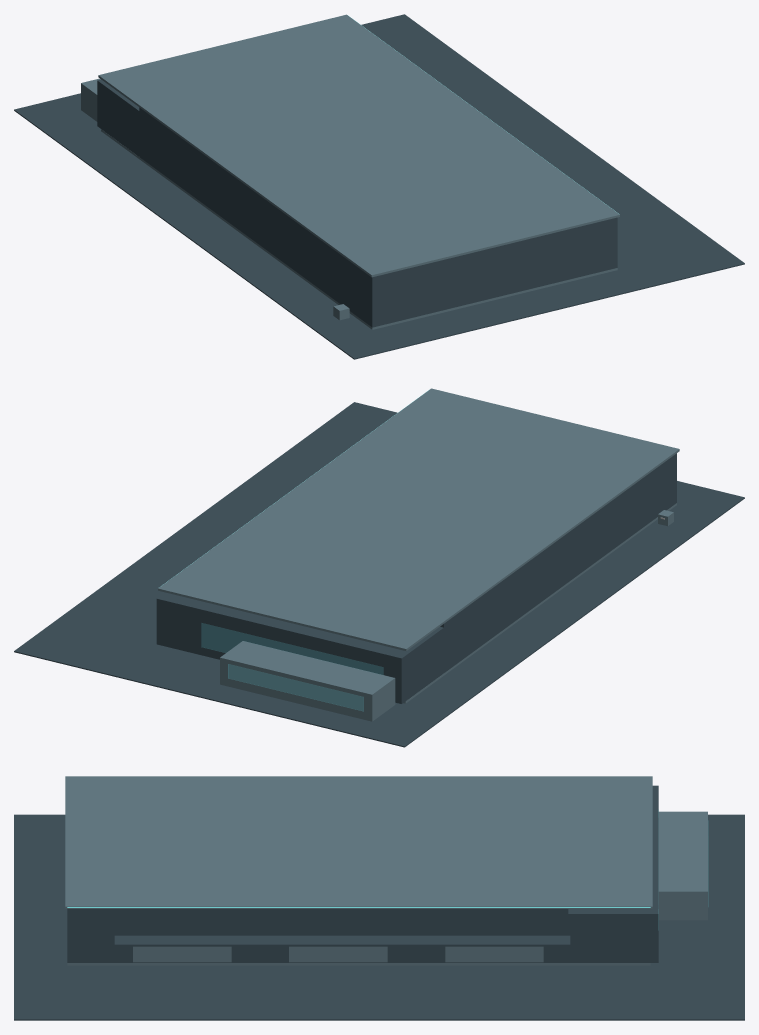
Rendered from warehouse_logistics_center.lod2.glb.
3 views of the same model, one above another, from view 1: azimuth 30°, elevation 25°; view 2: azimuth 150°, elevation 25°; view 3: azimuth 270°, elevation 25° (orthographic). The views are drawn at different scales.
Visible parts, largest first — view 1: warehouse_logistics_center_graphite_light.002, warehouse_logistics_center_graphite.002; view 2: warehouse_logistics_center_graphite_light.002, warehouse_logistics_center_graphite.002, warehouse_logistics_center_glass.002; view 3: warehouse_logistics_center_graphite_light.002, warehouse_logistics_center_graphite.002, warehouse_logistics_center_edge.002.
Boxes of the visible parts, <box> form: warehouse_logistics_center_graphite_light.002: <box>81,14,619,329</box>; warehouse_logistics_center_graphite.002: <box>14,14,744,359</box>; warehouse_logistics_center_graphite_light.002: <box>158,388,679,721</box>; warehouse_logistics_center_graphite.002: <box>14,402,744,747</box>; warehouse_logistics_center_glass.002: <box>202,623,382,710</box>; warehouse_logistics_center_graphite_light.002: <box>65,776,707,965</box>; warehouse_logistics_center_graphite.002: <box>14,785,744,1020</box>; warehouse_logistics_center_edge.002: <box>67,907,650,907</box>.
Bounding box in the file's own units: 118 × 16.41 × 178.
